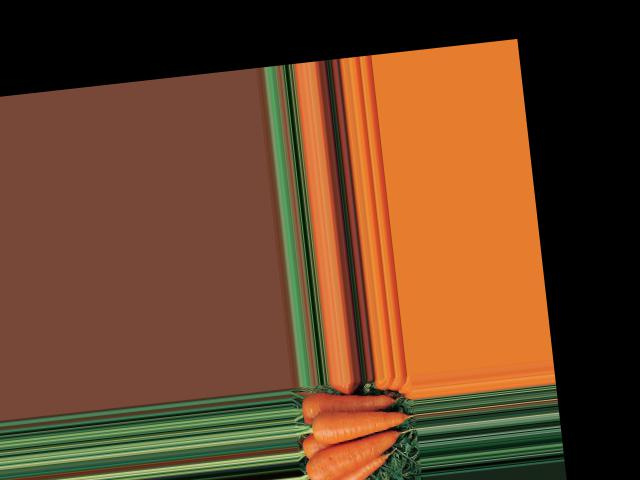carrot: (304, 427, 407, 480)
